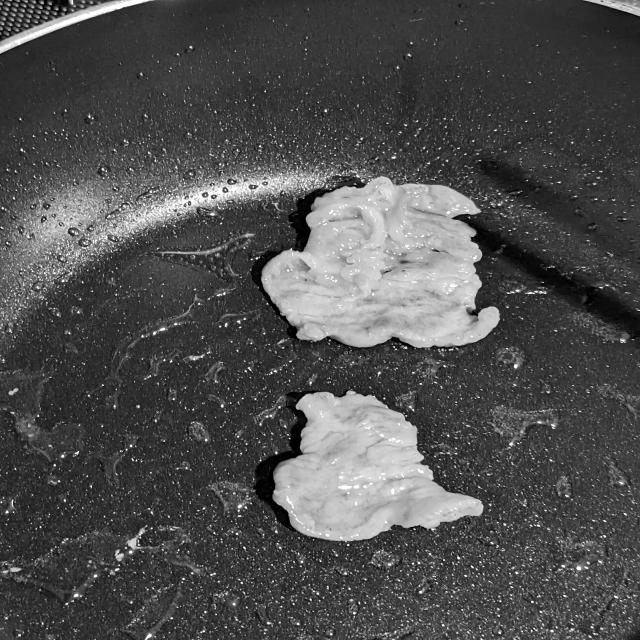OK cooked pork,: (245, 166, 508, 356), (254, 384, 498, 552)
